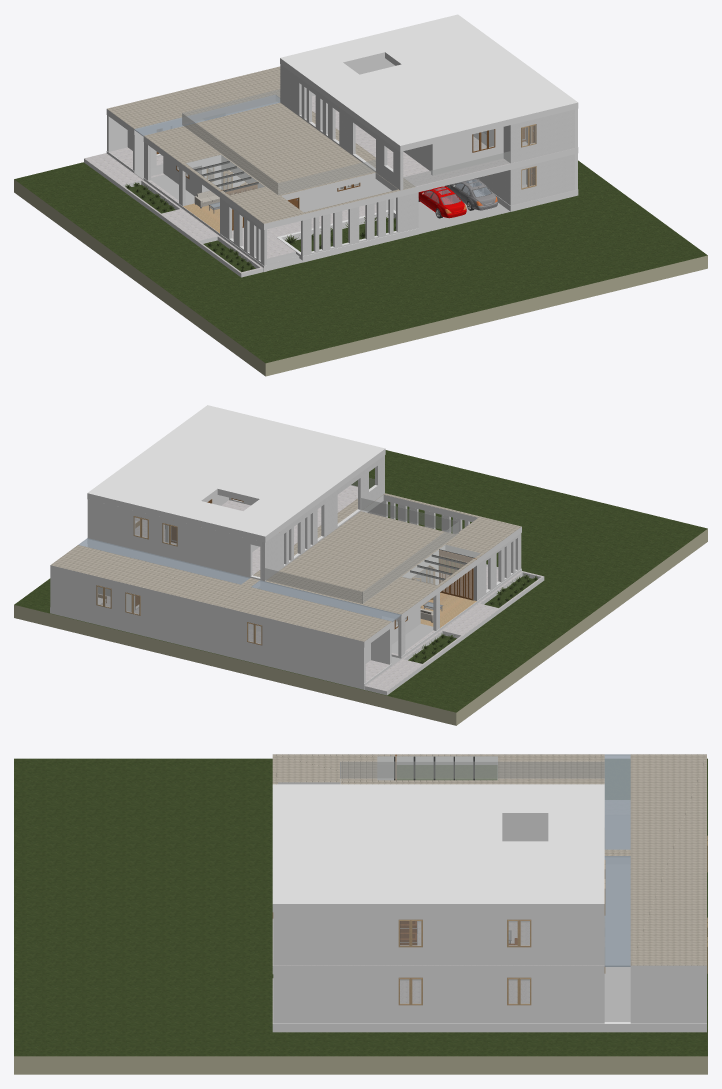
The model's file is vill_draco.glb.
The picture shows the model from 3 angles, top to bottom: view 1: azimuth 30°, elevation 25°; view 2: azimuth 150°, elevation 25°; view 3: azimuth 270°, elevation 25°; orthographic projection. The views are drawn at different scales.
Parts seen in each view (by area): view 1: Object_49, walls, outerroof, outerwalls, Object_9, windowandroofglass, floor, pillers, Object_47, bushes, Object_11, Object_54 (+3 smaller); view 2: walls, Object_49, outerroof, Object_9, outerwalls, windowandroofglass, floor, Object_47, doorandwindowframe, Object_57, bushes, Object_38 (+1 smaller); view 3: Object_49, walls, outerroof, Object_9, windowandroofglass, Object_47, pillers, floor, Object_57.
Boxes of the visible parts, <box> form: Object_49: <box>14,160,707,363</box>; walls: <box>84,14,578,277</box>; outerroof: <box>107,66,415,223</box>; outerwalls: <box>144,64,574,265</box>; Object_9: <box>14,179,707,376</box>; windowandroofglass: <box>176,89,535,195</box>; floor: <box>84,95,577,273</box>; pillers: <box>134,166,509,268</box>; Object_47: <box>134,95,486,207</box>; bushes: <box>125,182,395,272</box>; Object_11: <box>418,186,466,218</box>; Object_54: <box>448,178,497,210</box>; walls: <box>50,405,544,695</box>; Object_49: <box>14,450,707,712</box>; outerroof: <box>50,493,521,641</box>; Object_9: <box>14,529,707,725</box>; outerwalls: <box>262,455,521,656</box>; windowandroofglass: <box>97,478,480,644</box>; floor: <box>98,485,543,691</box>; Object_47: <box>78,538,441,622</box>; doorandwindowframe: <box>135,498,476,629</box>; Object_57: <box>96,498,435,645</box>; bushes: <box>409,558,537,663</box>; Object_38: <box>420,592,476,627</box>; Object_49: <box>14,758,707,1056</box>; walls: <box>272,756,706,1032</box>; outerroof: <box>272,754,706,965</box>; Object_9: <box>14,1056,707,1074</box>; windowandroofglass: <box>340,756,604,1003</box>; Object_47: <box>509,754,630,966</box>; pillers: <box>340,762,630,1021</box>; floor: <box>272,800,629,1023</box>; Object_57: <box>272,835,707,1005</box>.
Size of the model in its own units: 30.22 by 6.93 by 29.77.
Materials: 34 (15 with a texture image).
